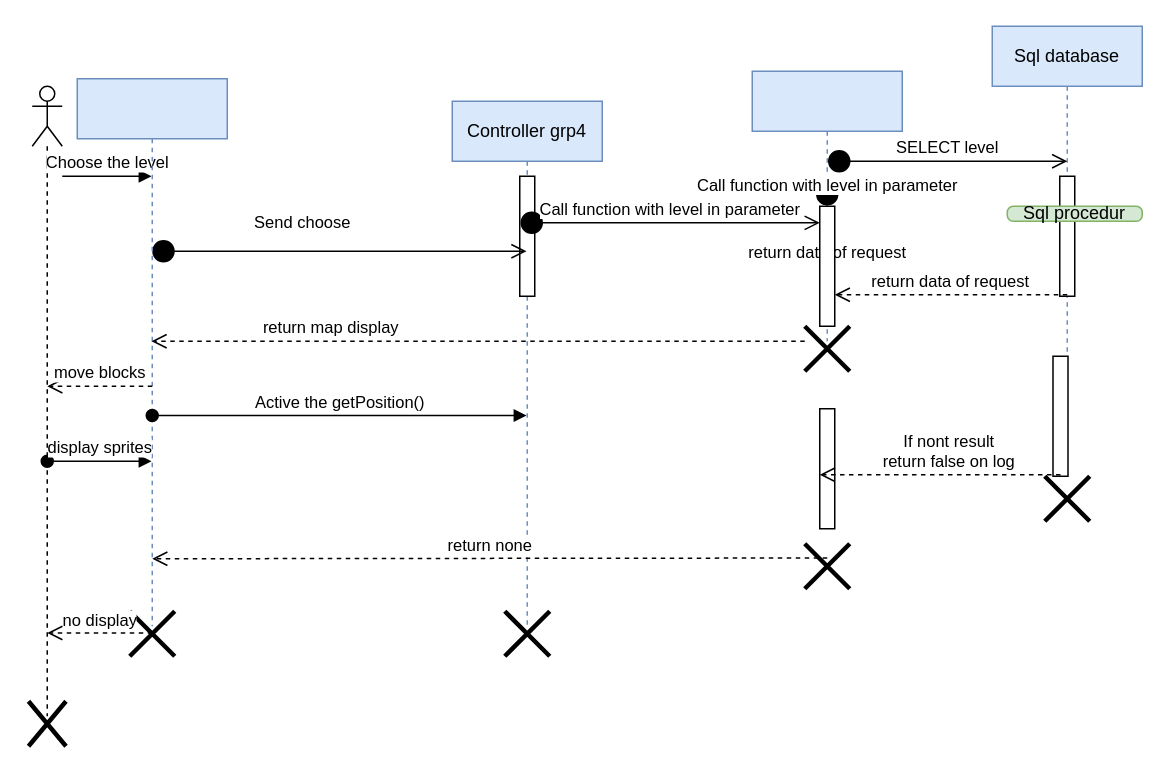
The diagram is 1169 pixels wide and 774 high, and some of its shapes have lost their labels. Here are the shapes that lost their labels. From the top down, the centre of each, then its label:
At point 826,205: "model grp4".
At point 151,351: "View".
